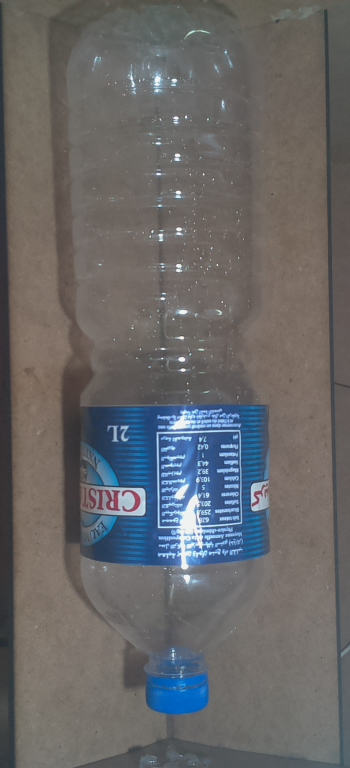Bouteille_2L: (58, 1, 291, 721)
